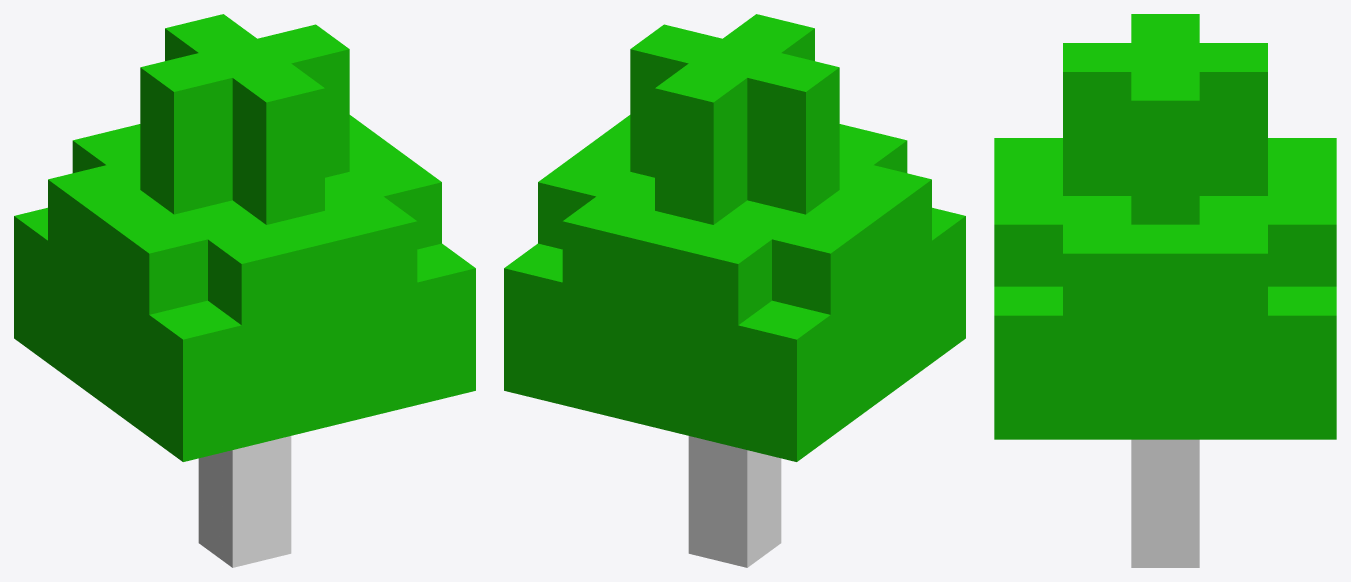
Rendered from SmallTree.obj.
3 views of the same model, side by side, from view 1: azimuth 30°, elevation 25°; view 2: azimuth 150°, elevation 25°; view 3: azimuth 270°, elevation 25° (orthographic).
Parts seen in each view (by area): view 1: leaf, log; view 2: leaf, log; view 3: leaf, log.
Boxes of the visible parts, x1,y1,x2,y2 form: leaf: (14,14,475,461); log: (198,436,291,567); leaf: (504,14,965,461); log: (688,436,781,567); leaf: (994,14,1336,439); log: (1131,439,1199,567).
Bounding box in the file's own units: 5 × 8 × 5.
